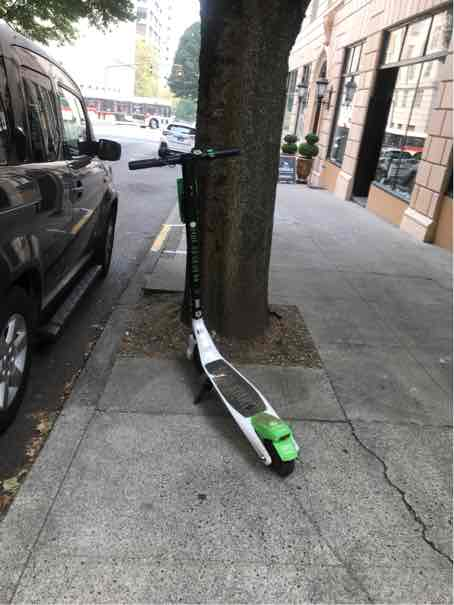scooter: (130, 138, 317, 483)
